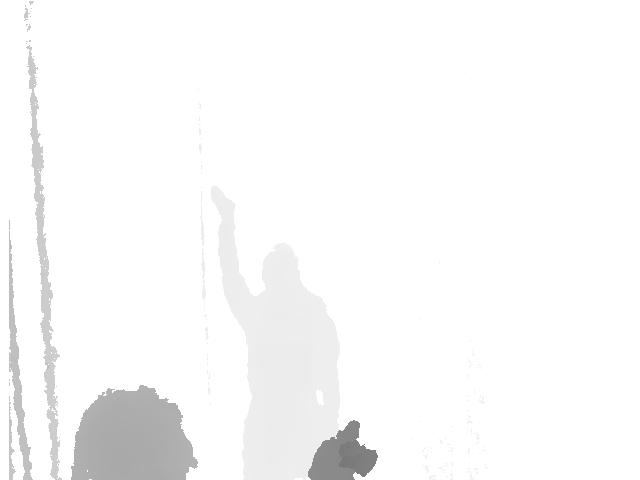hand: (208, 183, 236, 220)
head: (68, 386, 195, 480), (260, 240, 300, 300)
person: (208, 178, 344, 480)
